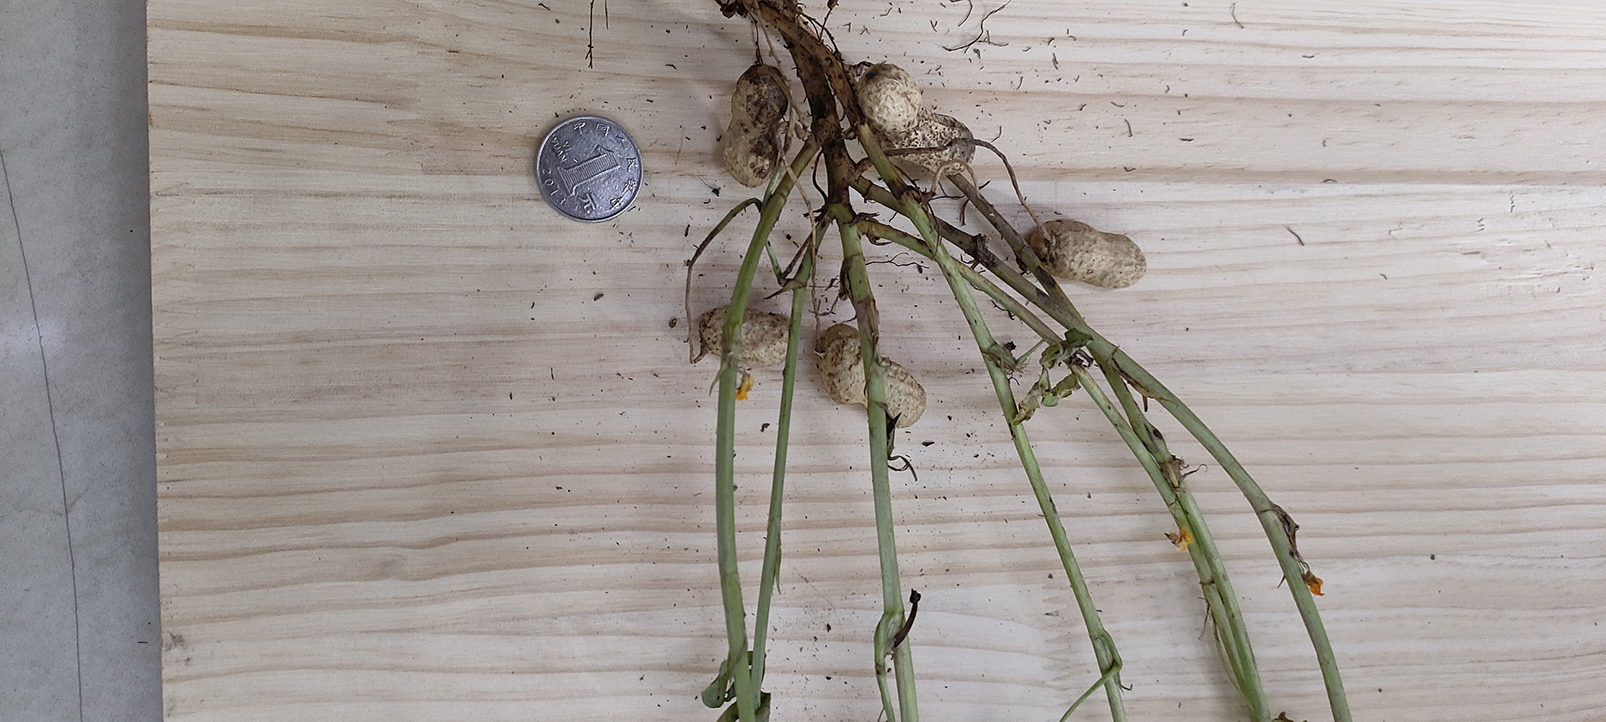h: (857, 62, 975, 175), (817, 324, 928, 426), (1029, 220, 1147, 288)
l: (725, 63, 788, 187), (698, 309, 790, 363)
